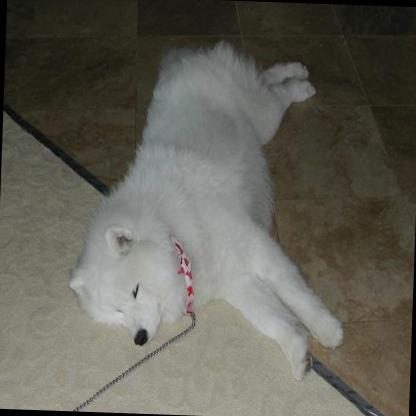Samoyed: (64, 36, 355, 388)
